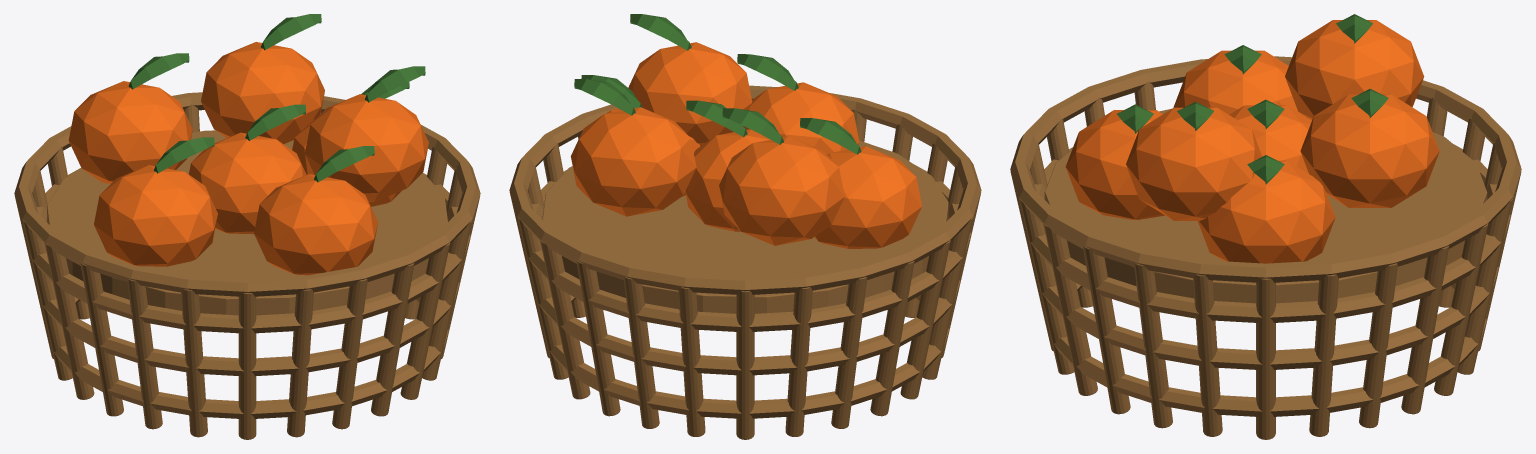
The model's file is source-edit.glb.
3 renders of one model, left to right at view 1: azimuth 30°, elevation 25°; view 2: azimuth 150°, elevation 25°; view 3: azimuth 270°, elevation 25°, orthographic. The views are drawn at different scales.
Visible parts, largest first — view 1: BASKET_Base, BASKET_Weave, MANDARIN_4, MANDARIN_2, MANDARIN_1, MANDARIN_5, MANDARIN_3, MANDARIN_6, BASKET_Weave.003, BASKET_Weave.002, BASKET_Weave.001, BASKET_Upright.017 (+19 smaller); view 2: BASKET_Base, BASKET_Weave, MANDARIN_3, MANDARIN_1, MANDARIN_5, MANDARIN_4, BASKET_Weave.003, BASKET_Weave.002, BASKET_Weave.001, MANDARIN_2, MANDARIN_6, BASKET_Upright.009 (+20 smaller); view 3: BASKET_Base, BASKET_Weave, MANDARIN_3, MANDARIN_5, MANDARIN_0, MANDARIN_1, BASKET_Weave.003, BASKET_Weave.002, BASKET_Weave.001, MANDARIN_2, MANDARIN_4, BASKET_Upright.002 (+21 smaller).
Boxes of the visible parts, x1,y1,x2,y2 form: BASKET_Base: (47,130,447,315); BASKET_Weave: (14,92,480,296); MANDARIN_4: (94,165,217,266); MANDARIN_2: (254,174,378,275); MANDARIN_1: (68,81,192,183); MANDARIN_5: (305,94,428,202); MANDARIN_3: (201,42,324,144); MANDARIN_6: (189,132,306,234); BASKET_Weave.003: (24,168,470,333); BASKET_Weave.002: (35,282,459,376); BASKET_Weave.001: (46,297,448,418); BASKET_Upright.017: (238,293,256,439); BASKET_Base: (542,140,948,313); BASKET_Weave: (509,85,981,294); MANDARIN_3: (570,107,696,216); MANDARIN_1: (719,136,844,245); MANDARIN_5: (628,42,752,146); MANDARIN_4: (814,146,921,248); BASKET_Weave.003: (519,165,971,331); BASKET_Weave.002: (530,280,960,375); BASKET_Weave.001: (541,295,949,418); MANDARIN_2: (743,82,859,154); MANDARIN_6: (685,129,770,231); BASKET_Upright.009: (736,291,754,439); BASKET_Base: (1044,108,1487,303); BASKET_Weave: (1010,56,1521,282); MANDARIN_3: (1300,94,1439,207); MANDARIN_5: (1126,107,1262,220); MANDARIN_0: (1197,160,1335,263); MANDARIN_1: (1285,20,1424,119); BASKET_Weave.003: (1021,144,1510,322); BASKET_Weave.002: (1033,267,1498,369); BASKET_Weave.001: (1045,283,1486,416); MANDARIN_2: (1065,110,1164,219); MANDARIN_4: (1173,50,1307,117); BASKET_Upright.002: (1309,274,1338,436).
Size of the model in its own units: 0.624 by 0.4169 by 0.624.
